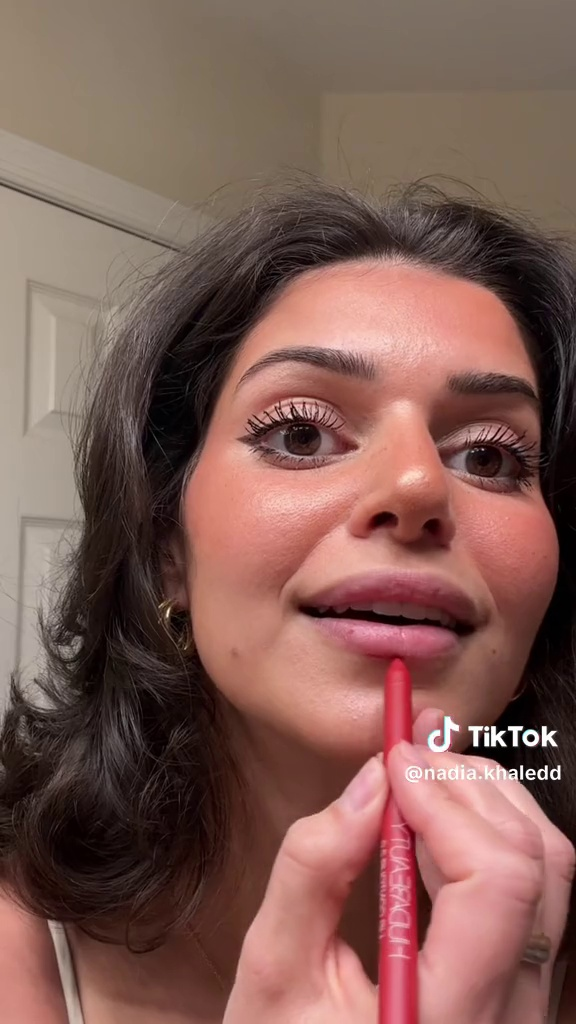train' :'yolo_data/train/images',: (333, 642, 436, 1023)
